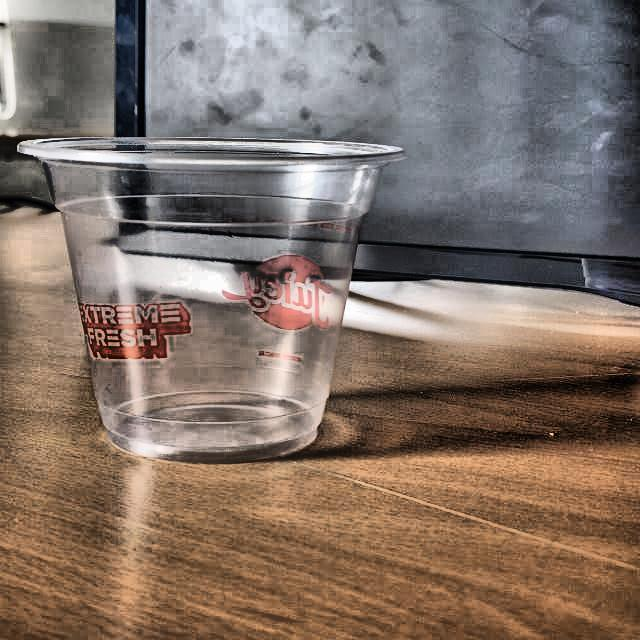plastic cup: (14, 134, 408, 464)
